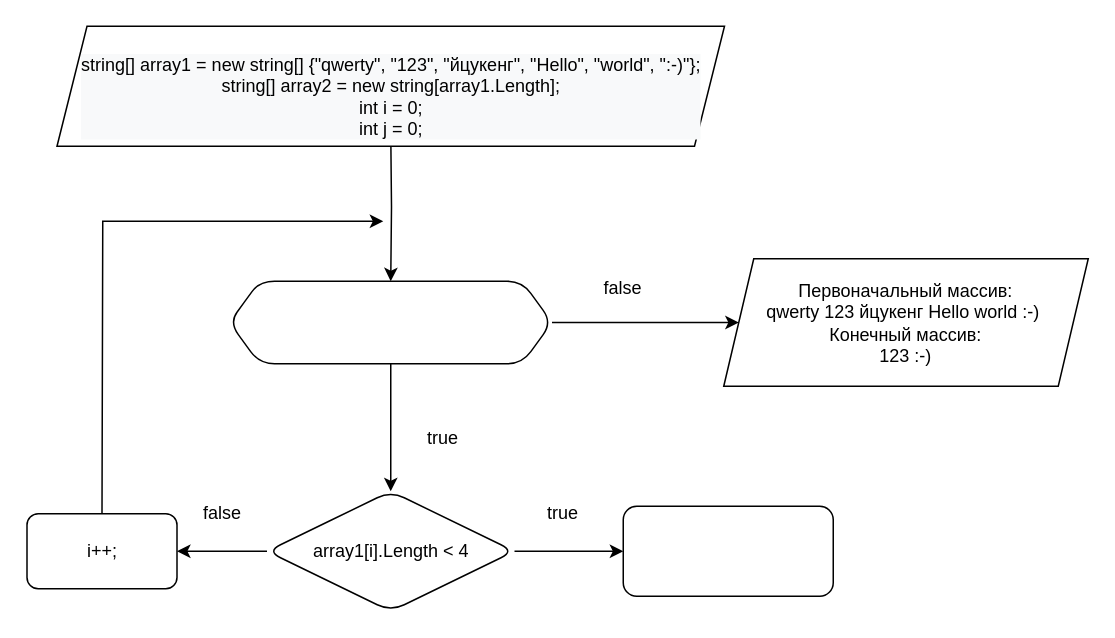
This 1115x638 diagram has some shape labels left out. The centre of each missing label's shape, as x and y in pixels:
array2[j] = array1[i]; j++;: point 727,550
i < array1.Length: point 390,322
